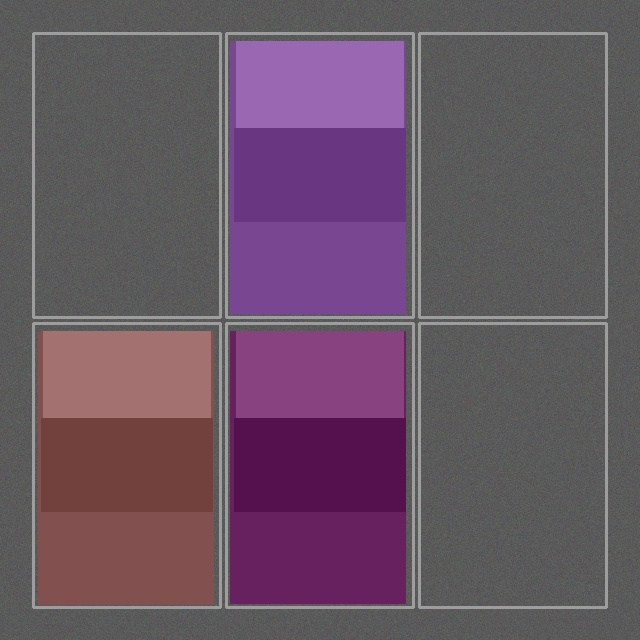space-empty: (35, 35, 218, 315), (421, 35, 604, 315), (421, 325, 604, 605)
space-occupied: (228, 35, 411, 315), (35, 325, 218, 605), (228, 325, 411, 605)
